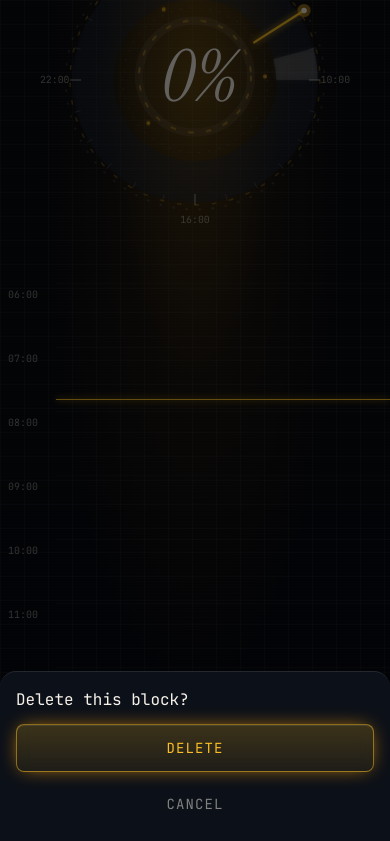
Test: C-m5-020: deleting last block + brick returns to M1 empty state › deleting the last block renders the M1 empty-state copy
Earlier steps of the test are not shown.
(page scrolled)
Click the button "Delete" at {"x": 195, "y": 748}, box [16,724,374,772]
(page scrolled)
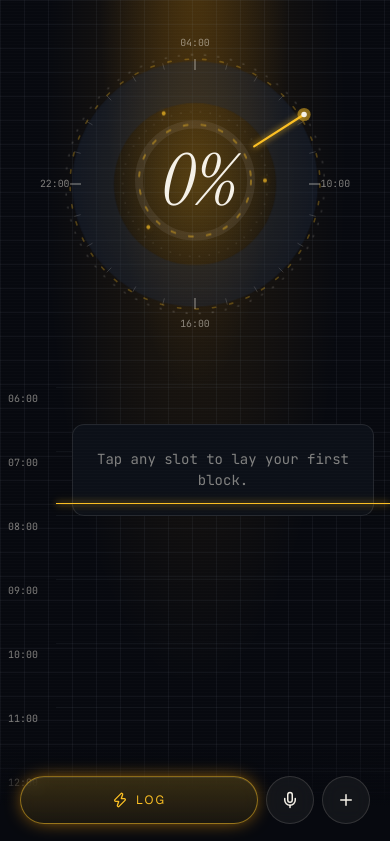
Expected: the text "Tap any slot to lay your first block." is shown, [97,449,349,491]
